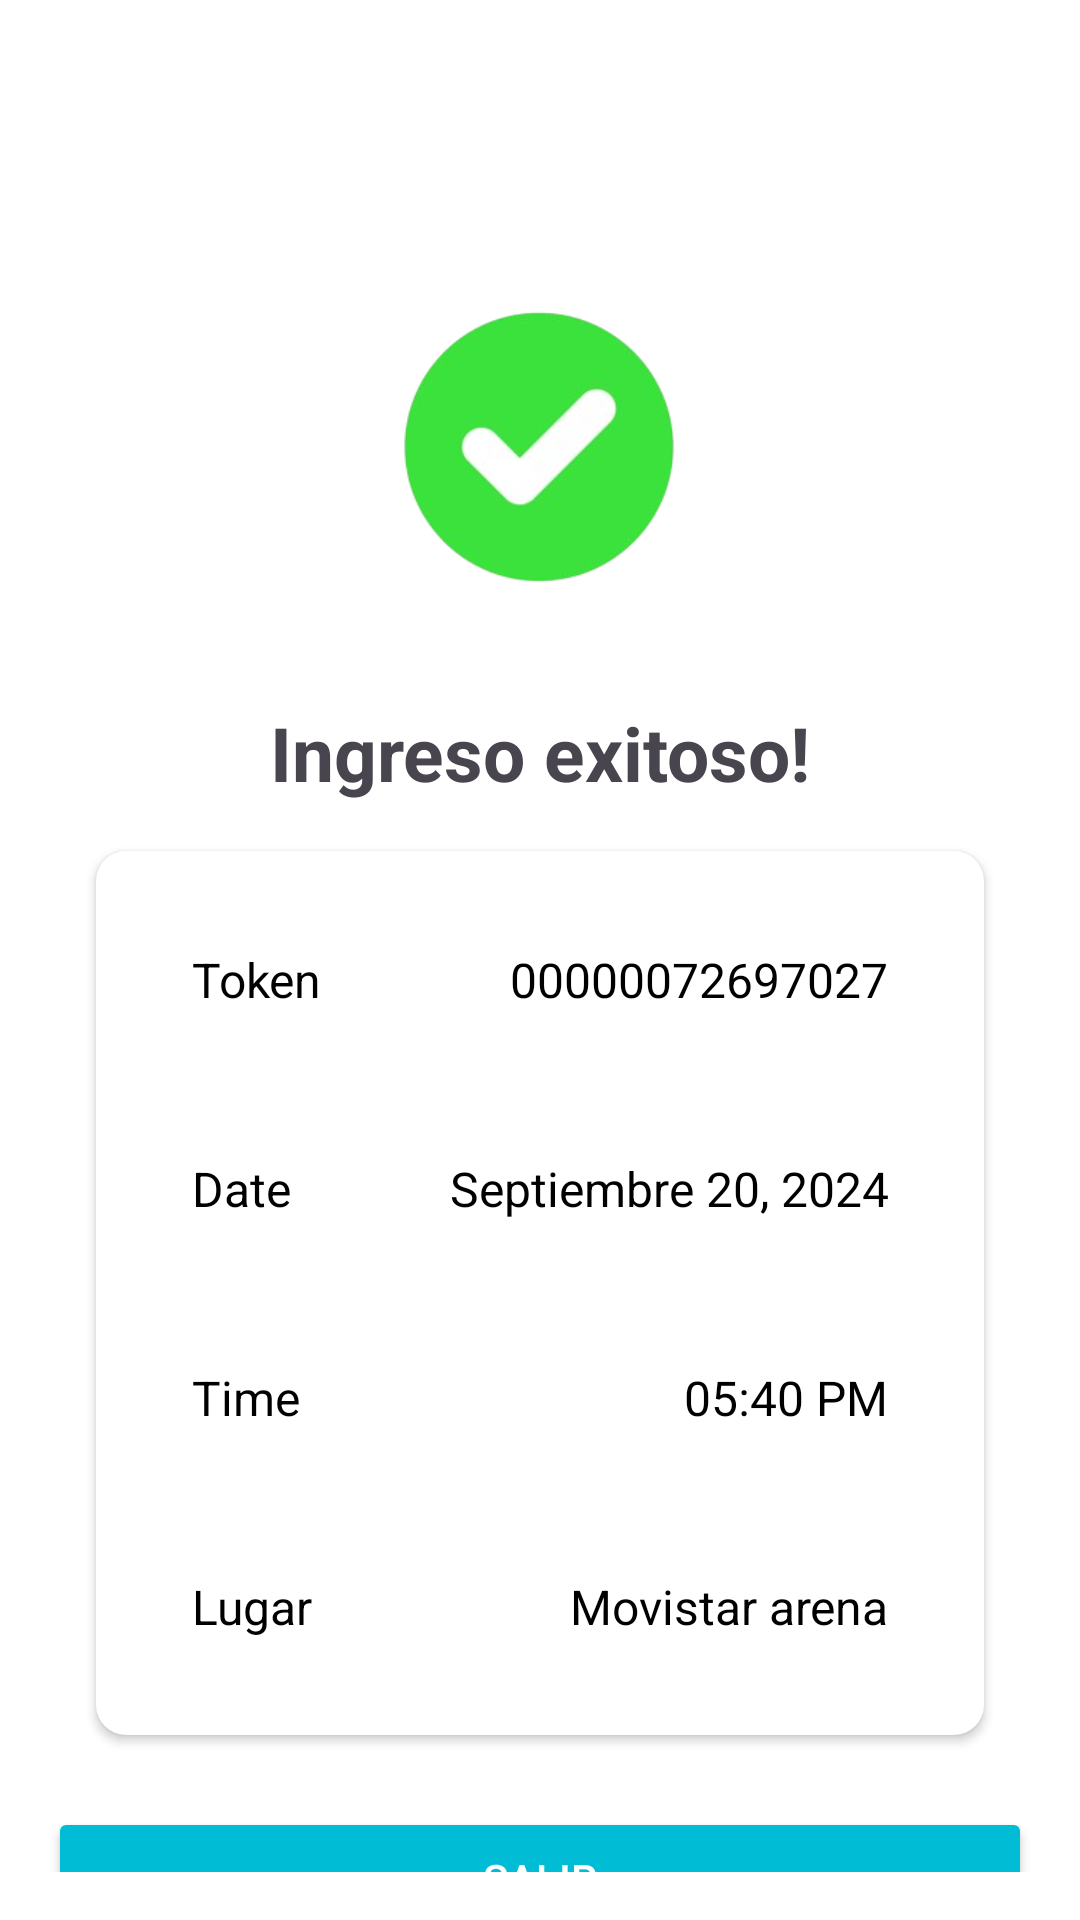

Where icons sit on this 1080x1920 app screen, as (left=x1, top=y1, right=x2, bottom=y2):
check: (left=404, top=312, right=674, bottom=582)
